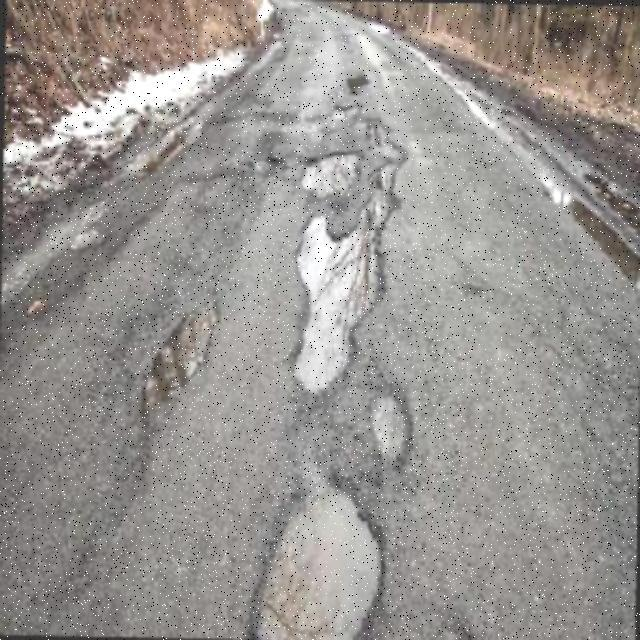Pothole: (294, 122, 408, 395), (246, 483, 385, 640), (369, 374, 415, 478), (302, 154, 362, 197)
